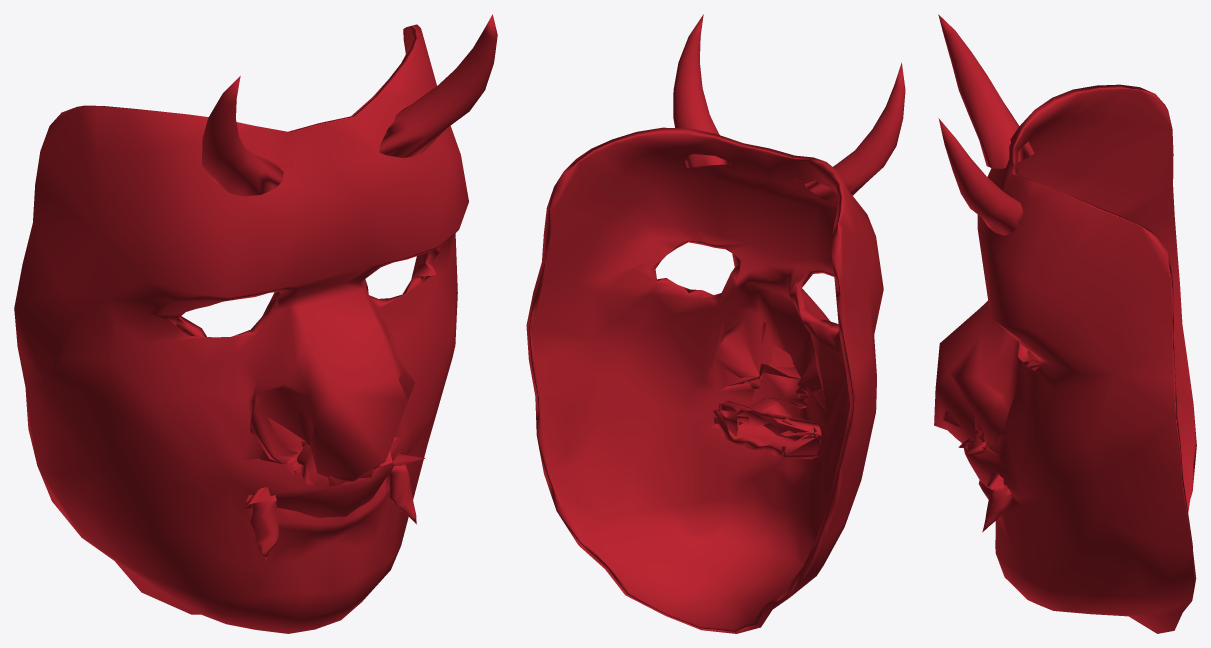
Rendered from oni_mask.glb.
The picture shows the model from 3 angles, left to right: view 1: azimuth 30°, elevation 25°; view 2: azimuth 150°, elevation 25°; view 3: azimuth 270°, elevation 25°; orthographic projection. The views are drawn at different scales.
Parts seen in each view (by area): view 1: oni_mask; view 2: oni_mask; view 3: oni_mask.
Part boxes in pixels (left/top/right/bottom): oni_mask: left=14, top=14, right=497, bottom=633; oni_mask: left=526, top=14, right=905, bottom=633; oni_mask: left=934, top=14, right=1196, bottom=633.
Size of the model in its own units: 0.1769 by 0.2649 by 0.1129.
